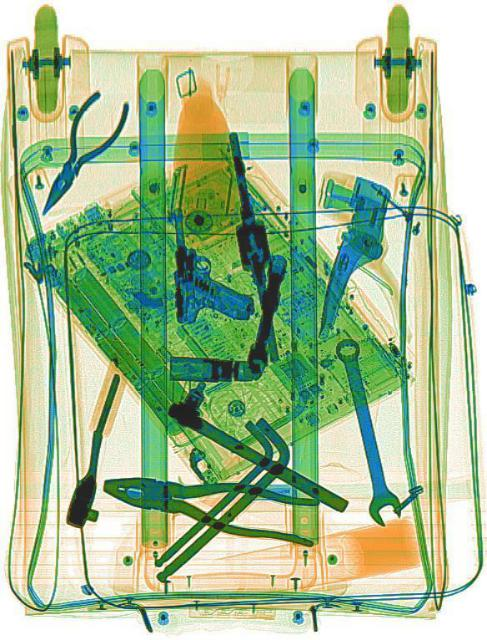Gun: (163, 196, 254, 330)
Pliers: (97, 456, 318, 550), (22, 76, 134, 232)
Wrench: (329, 332, 402, 530)
